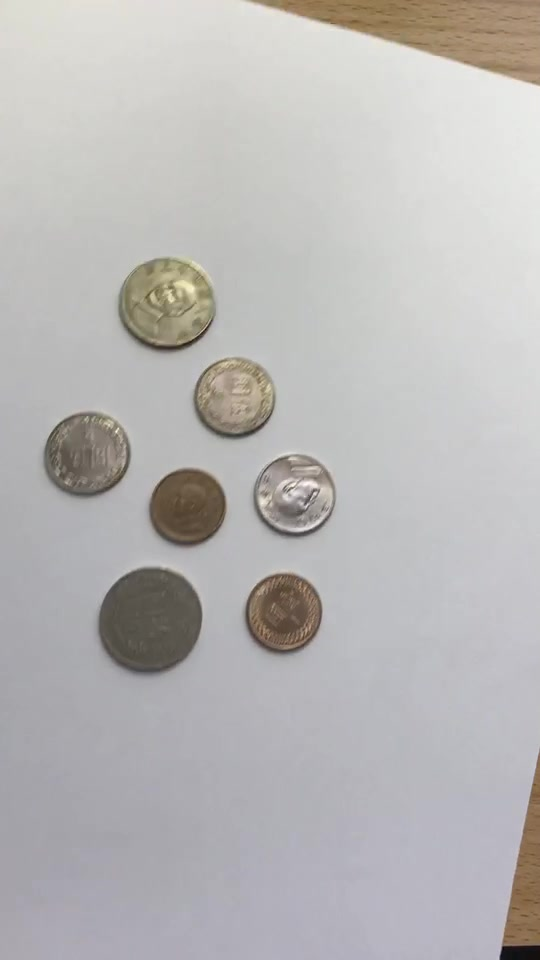1 dallar: (240, 562, 330, 660), (145, 452, 225, 554)
10 dallar: (82, 560, 207, 675), (91, 244, 216, 359)
5 dallar: (42, 403, 130, 500), (189, 349, 277, 446), (253, 446, 341, 543)
